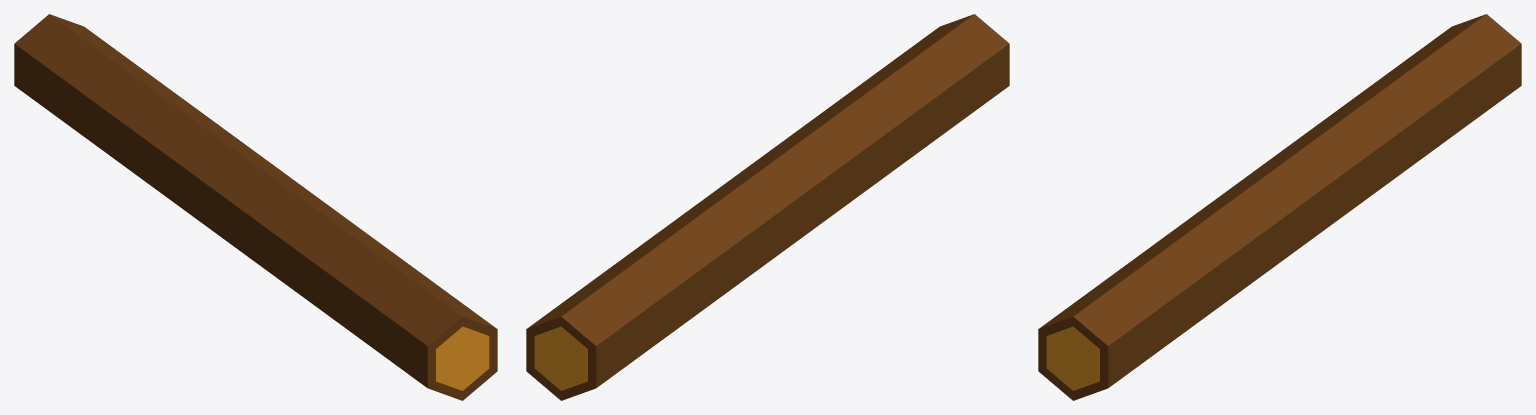
File: DeckUV.fbx
The picture shows the model from 3 angles, left to right: view 1: azimuth 30°, elevation 25°; view 2: azimuth 150°, elevation 25°; view 3: azimuth 330°, elevation 25°; orthographic projection.
Parts seen in each view (by area): view 1: Cylinder; view 2: Cylinder; view 3: Cylinder.
Part boxes in pixels (<box>): Cylinder: <box>14,14,497,400</box>; Cylinder: <box>526,14,1009,400</box>; Cylinder: <box>1038,14,1521,400</box>.
Size of the model in its own units: 31.07 by 35.87 by 318.
